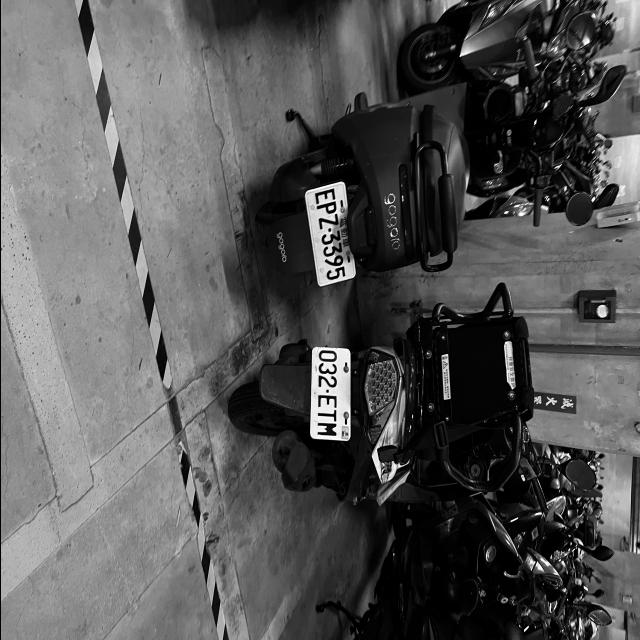-: (327, 227, 332, 233), (325, 389, 329, 394)
0: (318, 348, 338, 362)
2: (316, 376, 338, 388)
3: (321, 241, 342, 260), (320, 229, 341, 247), (318, 362, 336, 374)
5: (324, 266, 346, 282)
9: (323, 253, 345, 269)
E: (306, 184, 351, 286), (312, 187, 336, 205), (317, 395, 337, 407)
M: (316, 423, 336, 437)
P: (315, 200, 338, 217)
T: (317, 409, 337, 422)
Z: (316, 212, 339, 230)
plate: (313, 347, 351, 439)
